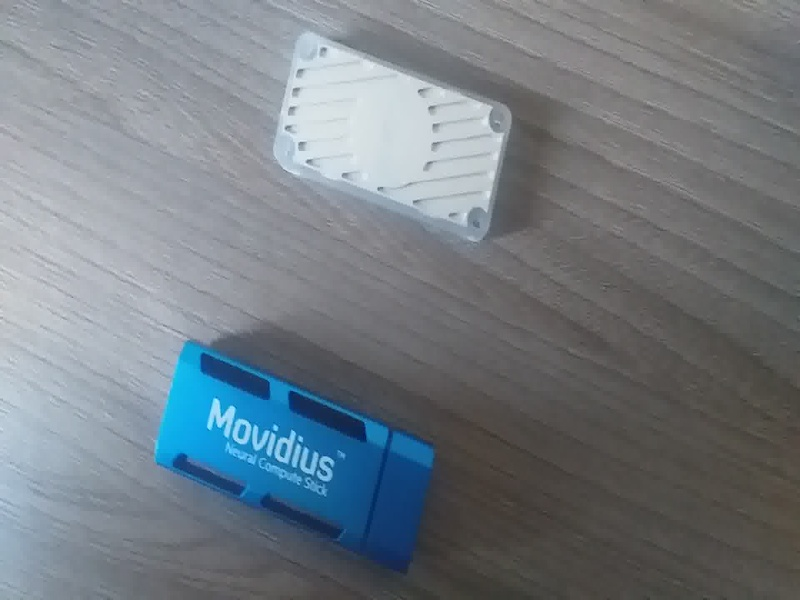coral: (264, 33, 524, 255)
movidius: (140, 337, 442, 584)
